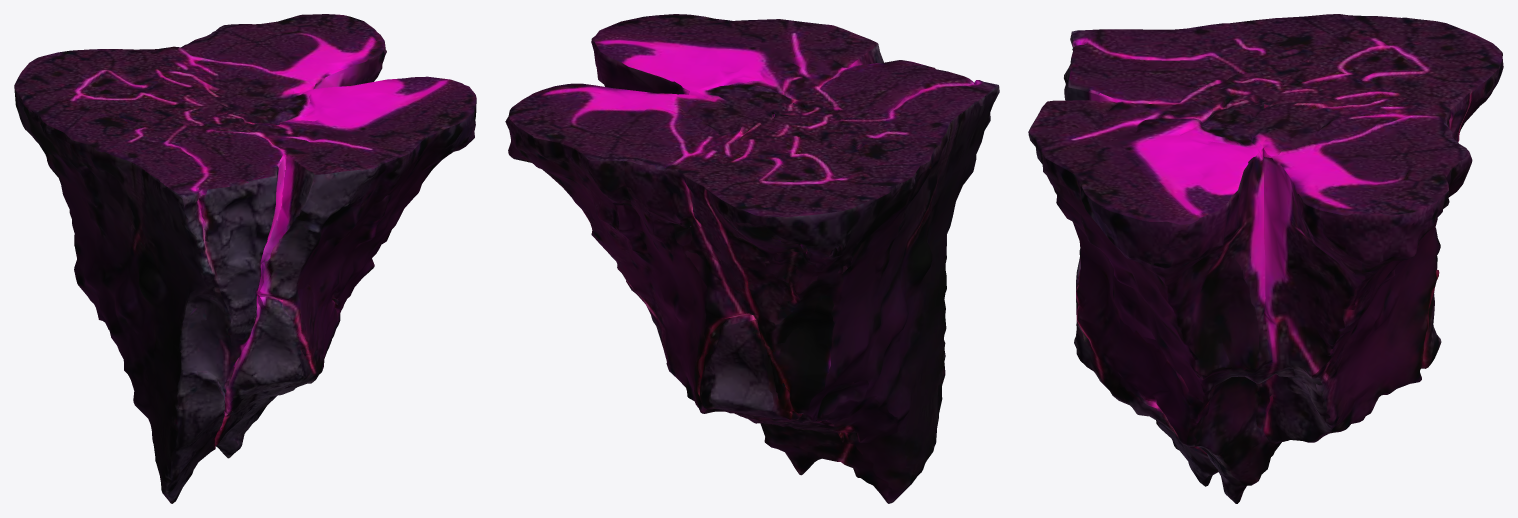
Rendered from shelf-break-6-generated-2026-05-17T20-50-14-459Z.low.glb.
3 renders of one model, left to right at view 1: azimuth 30°, elevation 25°; view 2: azimuth 150°, elevation 25°; view 3: azimuth 270°, elevation 25°, orthographic. The views are drawn at different scales.
Parts seen in each view (by area): view 1: temp_mesh.ply; view 2: temp_mesh.ply; view 3: temp_mesh.ply.
Part boxes in pixels (bbox=[...]): temp_mesh.ply: bbox=[14, 14, 476, 503]; temp_mesh.ply: bbox=[505, 14, 999, 503]; temp_mesh.ply: bbox=[1028, 14, 1503, 503].
Bounding box in the file's own units: 1.96 × 1.88 × 1.88.
1 material, 1 textured.
